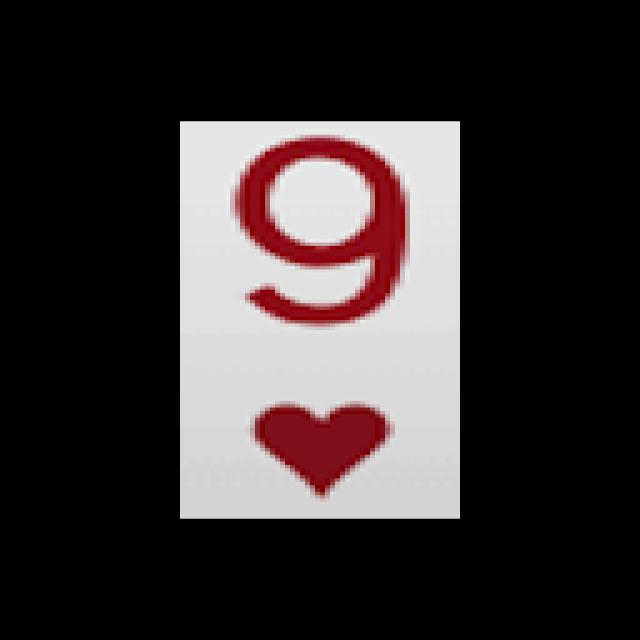9H: (202, 131, 427, 505)
